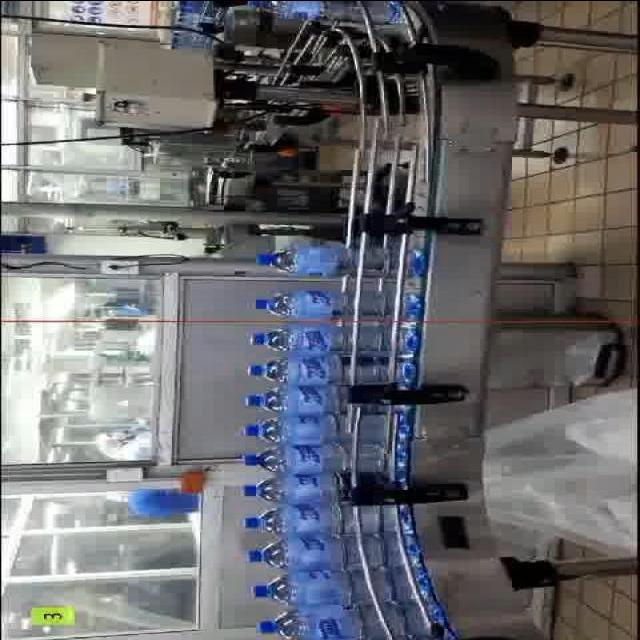bottle: (248, 568, 396, 607), (244, 533, 390, 571), (239, 442, 388, 476), (257, 606, 404, 640), (254, 241, 394, 275), (250, 288, 388, 320), (244, 352, 388, 382), (247, 323, 386, 353), (241, 506, 383, 533), (239, 472, 344, 507), (242, 383, 346, 417), (239, 413, 342, 446)
